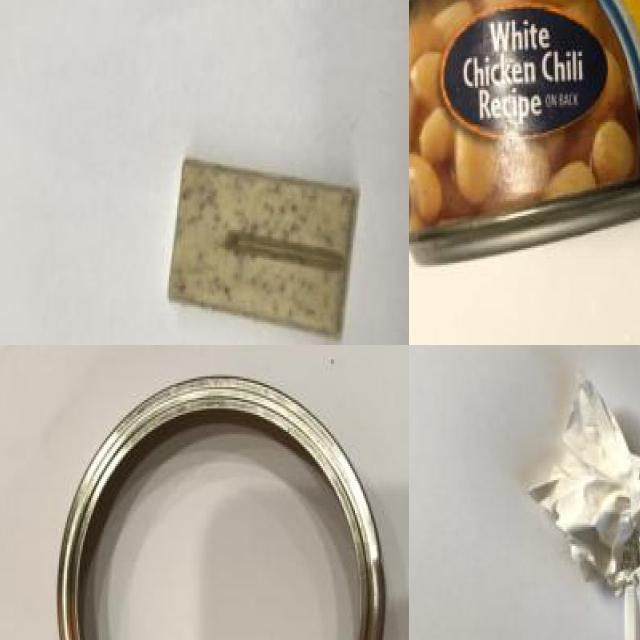compost: (155, 138, 385, 345)
paper: (513, 366, 640, 640)
plastic: (46, 351, 398, 640), (409, 0, 640, 269)
